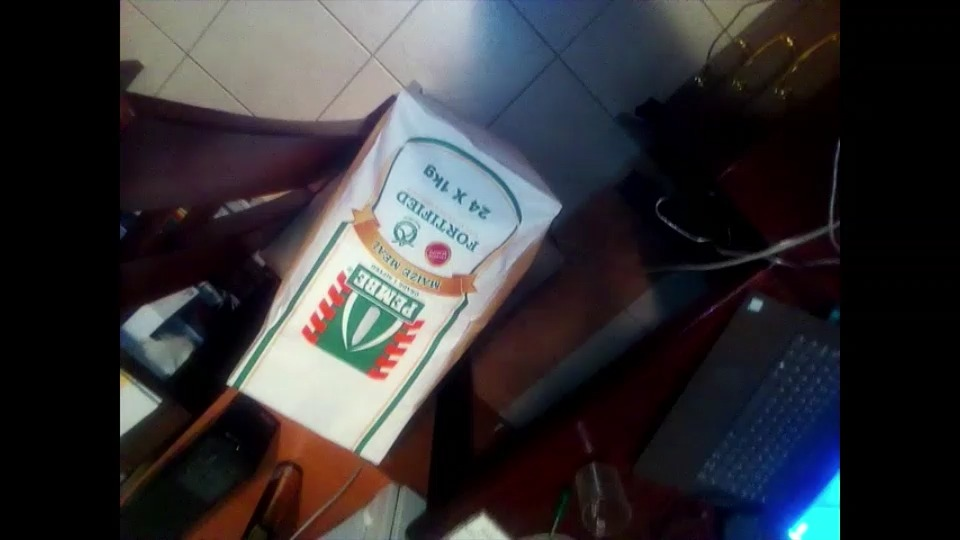maize_flour_green_label: (224, 88, 561, 464)
